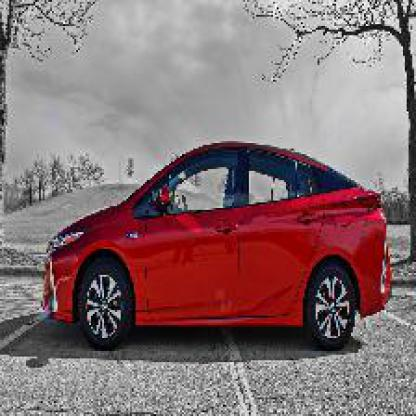not_emergency: (30, 132, 412, 379)
